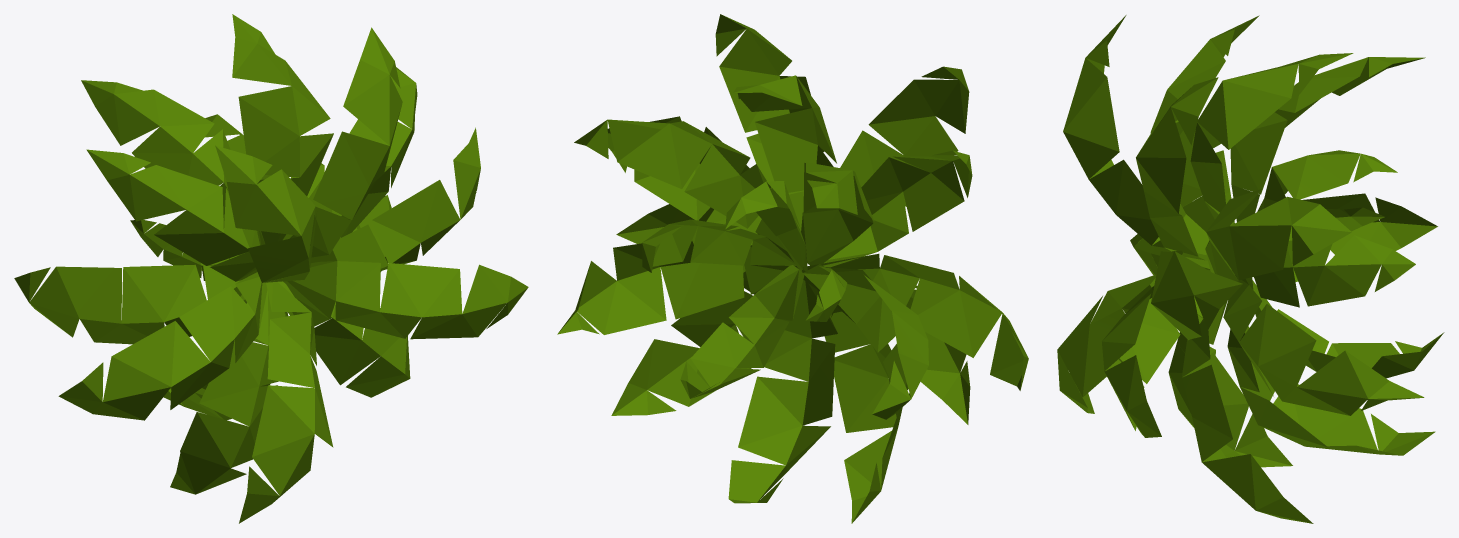
Rendered from PalmLeafs.glb.
3 views of the same model, side by side, from view 1: azimuth 30°, elevation 25°; view 2: azimuth 150°, elevation 25°; view 3: azimuth 270°, elevation 25° (orthographic). The views are drawn at different scales.
Parts seen in each view (by area): view 1: PalmLeafs; view 2: PalmLeafs; view 3: PalmLeafs.
Boxes of the visible parts, x1,y1,x2,y2 form: PalmLeafs: (14,14,528,523); PalmLeafs: (557,14,1028,523); PalmLeafs: (1057,15,1444,523).
Bounding box in the file's own units: 4.4 × 4.27 × 3.15.
1 material, 1 textured.
